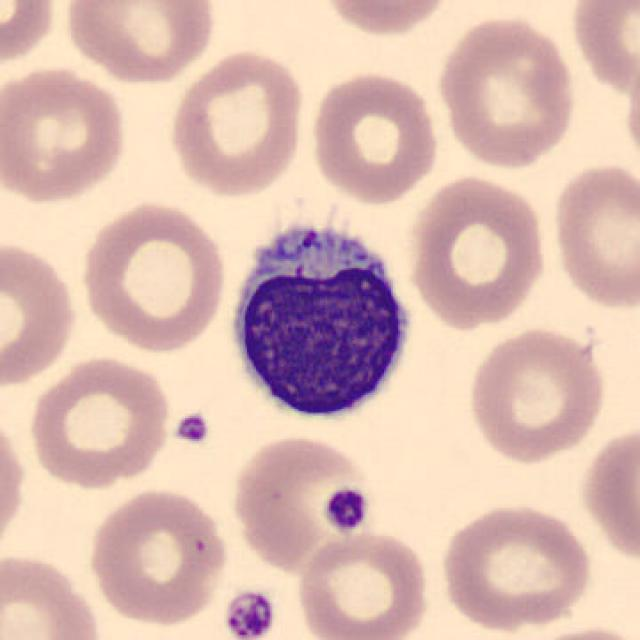Lymphocyte: (217, 210, 421, 428)
Platelets: (221, 587, 279, 640), (322, 485, 372, 536), (169, 407, 213, 450)
RBC: (77, 198, 231, 356), (434, 11, 580, 172), (406, 171, 550, 333), (165, 46, 308, 199), (228, 430, 380, 573), (83, 485, 233, 629), (436, 499, 596, 633), (462, 322, 610, 466), (23, 351, 174, 492), (0, 62, 132, 206), (306, 69, 442, 206), (292, 527, 434, 640), (548, 157, 638, 312), (60, 0, 220, 86), (0, 236, 82, 392), (0, 548, 107, 640), (576, 420, 640, 570), (566, 0, 638, 108), (316, 0, 458, 39), (0, 406, 30, 562), (0, 0, 62, 74), (622, 44, 640, 182), (516, 622, 638, 640)
